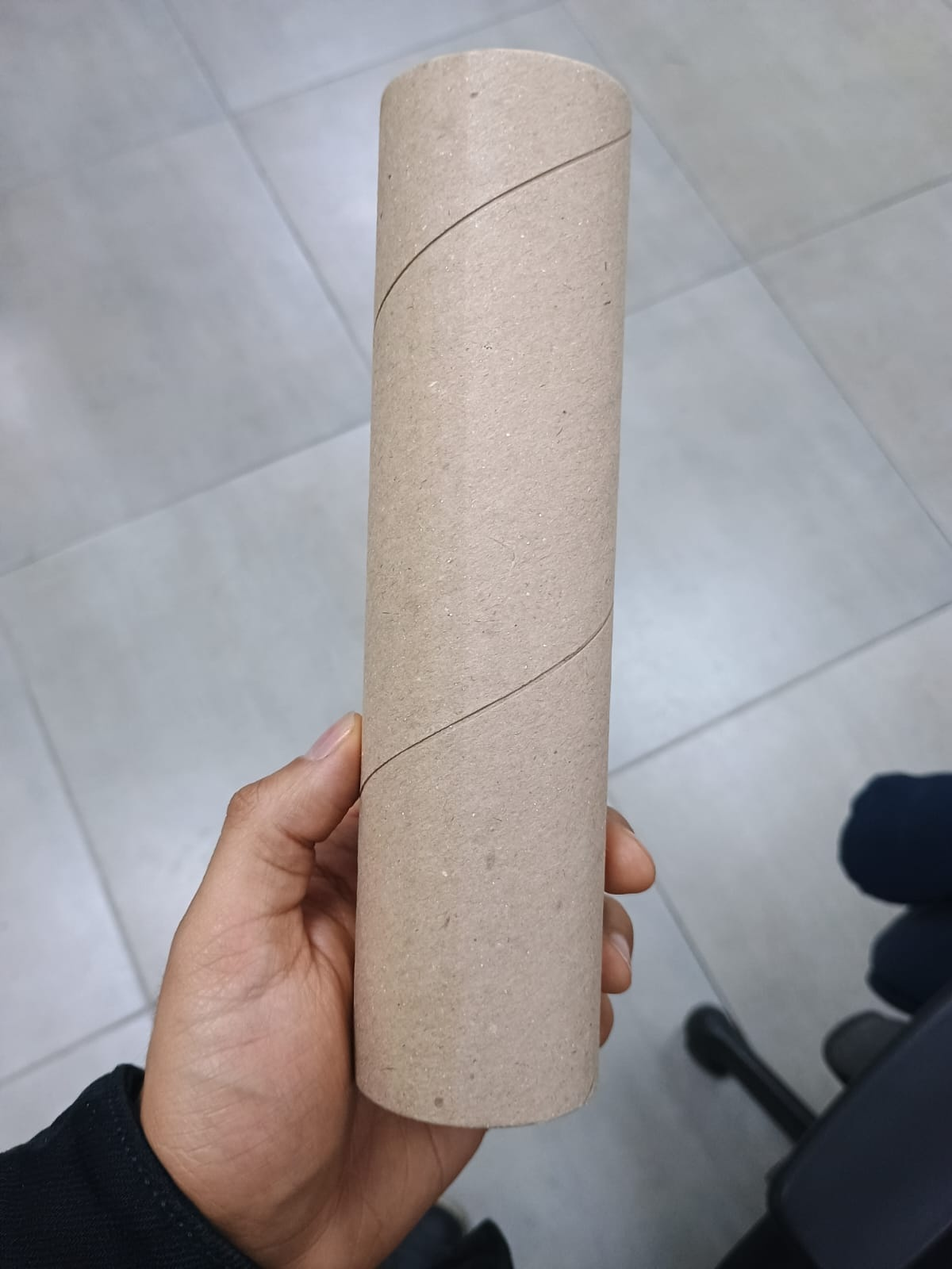Carton: (356, 51, 634, 1133)
